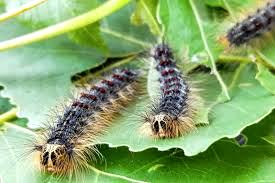Caterpillar: (35, 64, 135, 177), (142, 38, 197, 137), (210, 0, 275, 45)
